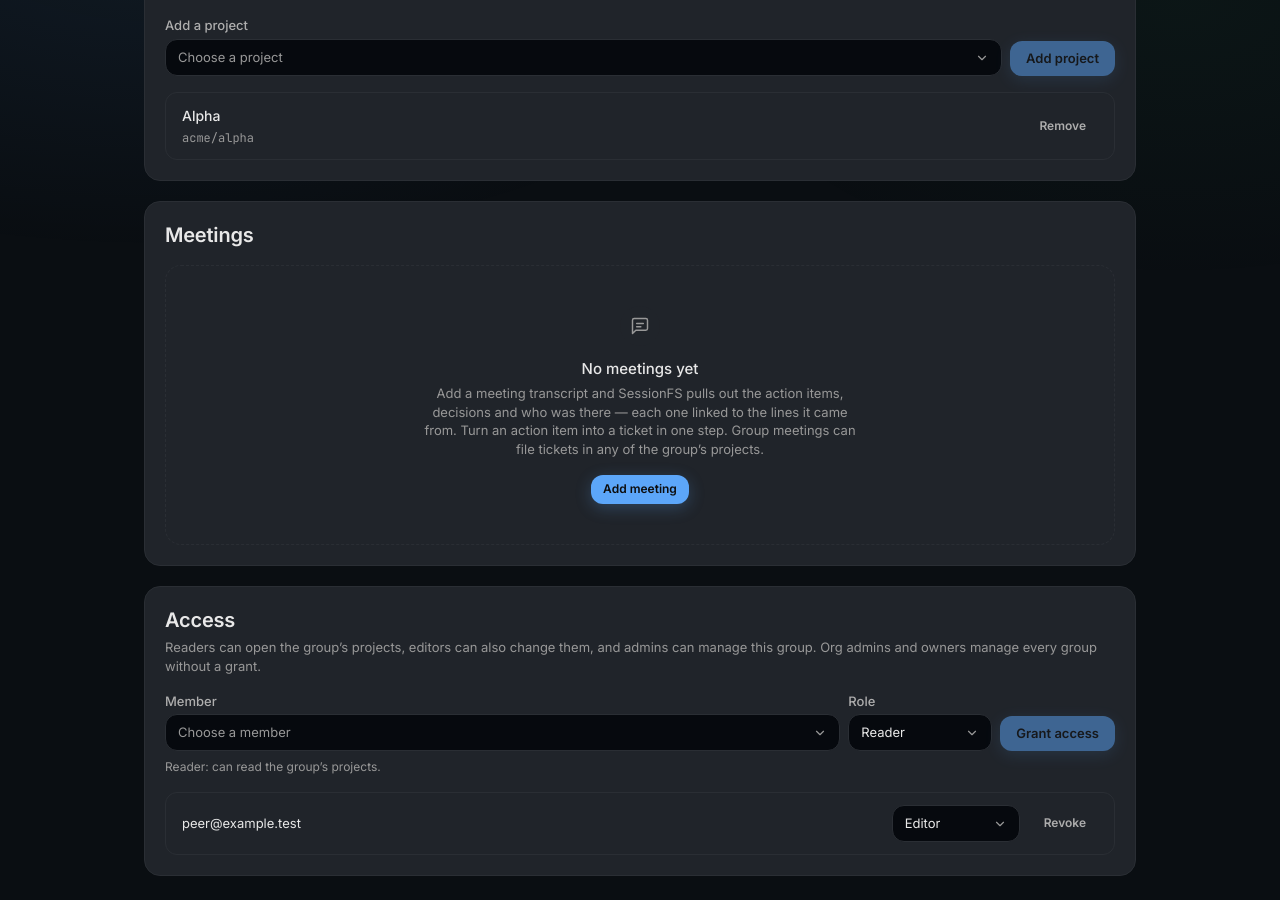
GroupDetailPage — group admin › shows a conflict inside the revoke dialog
(page scrolled)
What coordinates should you click on to do the following:
click the button with aria-label "Revoke access for peer@example.test"
I would click on:
 (1065, 824)
Its box is x1=1032 y1=809 x2=1098 y2=838.
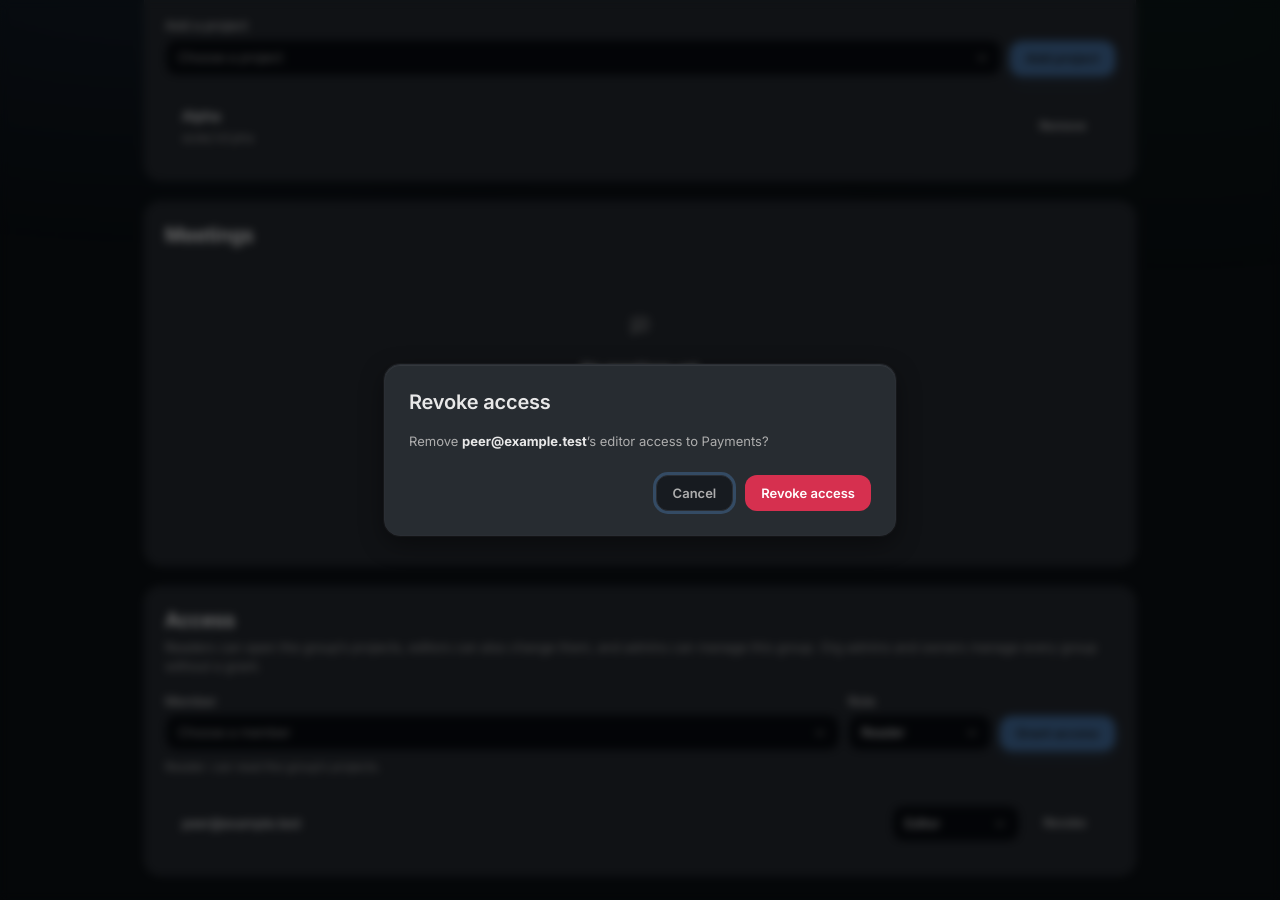
What coordinates should you click on to do the following:
click the button "Revoke access"
I would click on:
 (808, 493)
Its box is x1=745 y1=474 x2=871 y2=511.
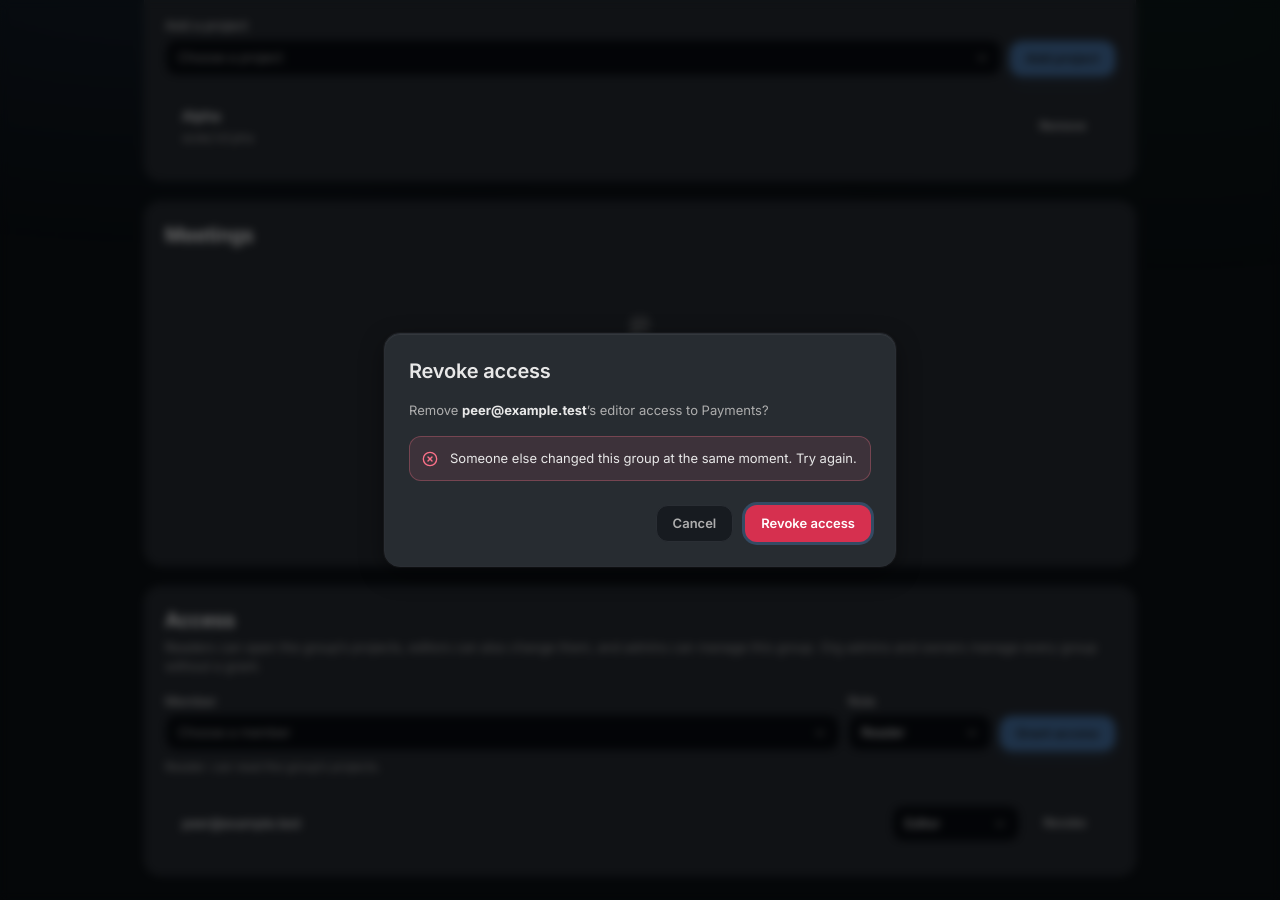
expect the text "same moment" is shown: met, box x1=450 y1=450 x2=857 y2=466
